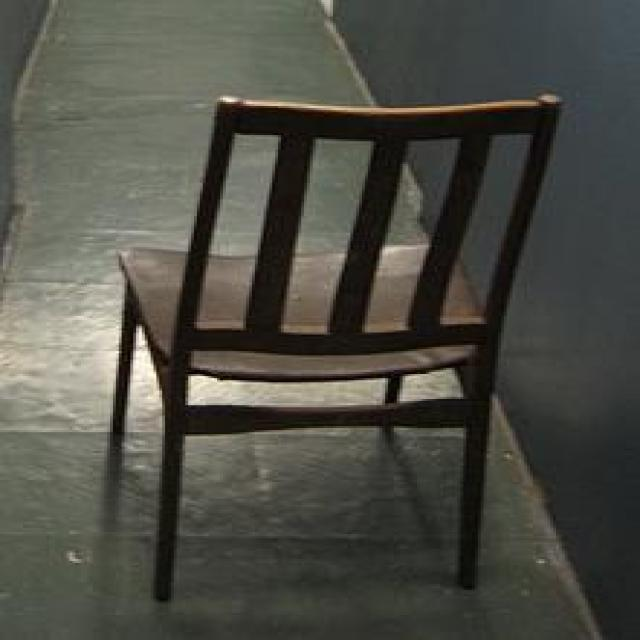chair: (110, 90, 562, 600)
